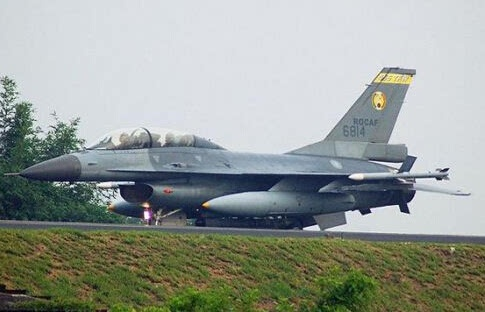airplane: (9, 62, 465, 224)
